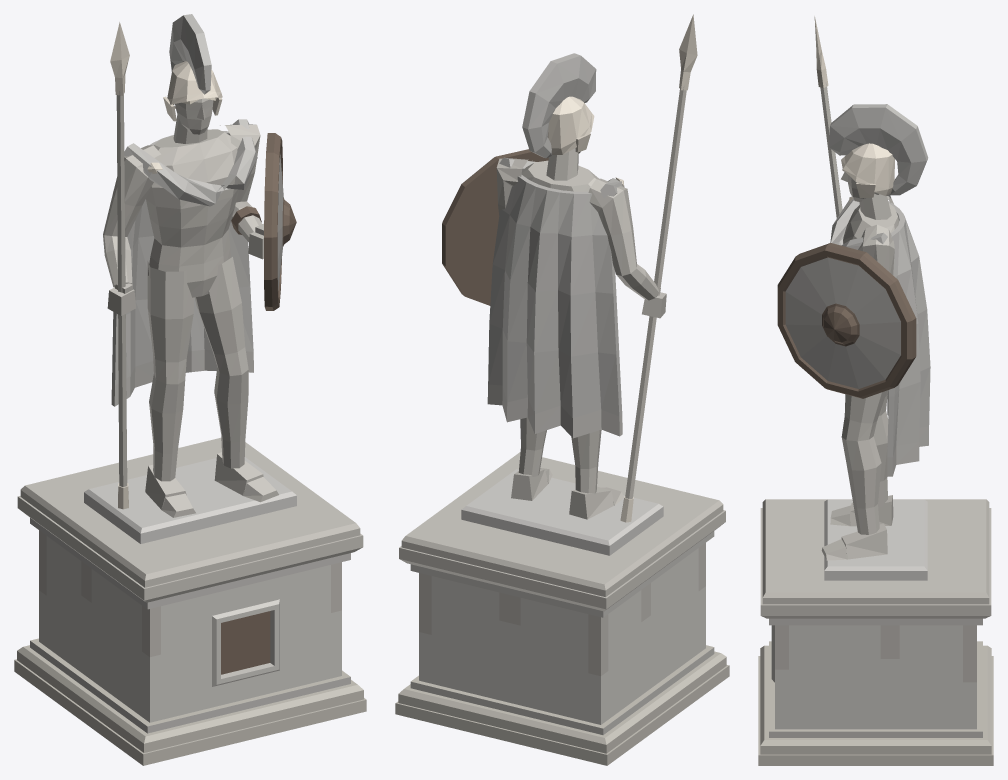
The model's file is marble-statue-on-a-a2c1e7.glb.
The picture shows the model from 3 angles, left to right: view 1: azimuth 30°, elevation 25°; view 2: azimuth 150°, elevation 25°; view 3: azimuth 270°, elevation 25°; orthographic projection. The views are drawn at different scales.
Visible parts, largest first — view 1: statue-marble, statue-metal; view 2: statue-marble, statue-metal; view 3: statue-marble, statue-metal.
Boxes of the visible parts, x1,y1,x2,y2 form: statue-marble: (14, 14, 366, 765); statue-metal: (110, 22, 296, 674); statue-marble: (395, 53, 729, 765); statue-metal: (442, 14, 697, 522); statue-marble: (758, 82, 993, 765); statue-metal: (777, 16, 916, 398).
Size of the model in its own units: 1 by 3.08 by 1.
